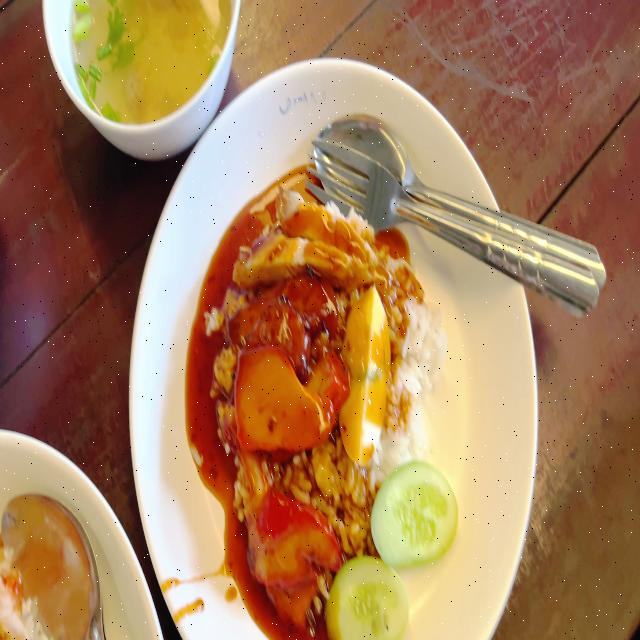boiled_egg: (340, 286, 393, 465)
chainese_sausage: (235, 278, 334, 365)
crispy_pork: (237, 197, 412, 293)
cucumber: (371, 459, 459, 564), (326, 551, 413, 640)
red_pork: (246, 490, 336, 621), (237, 344, 346, 445)
red_pork_and_crispy_pork: (209, 184, 463, 640)
